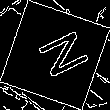N_SW: (24, 26, 86, 84)
